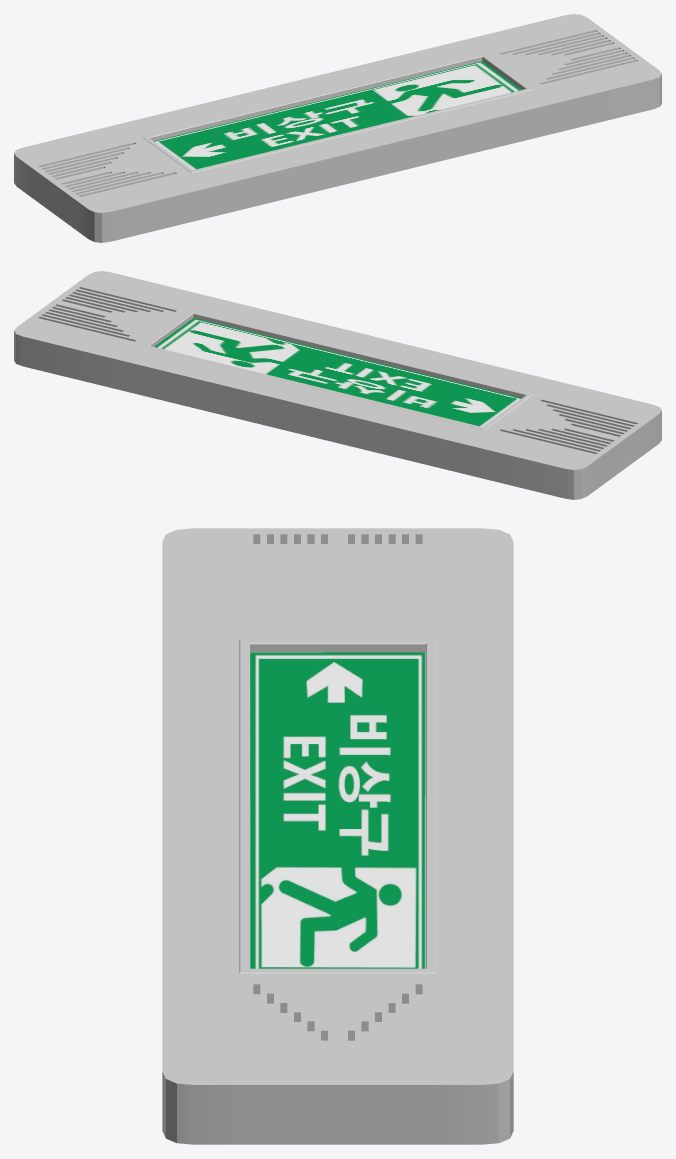
Rendered from EmergencyExit.FBX.
3 renders of one model, top to bottom at view 1: azimuth 30°, elevation 25°; view 2: azimuth 150°, elevation 25°; view 3: azimuth 270°, elevation 25°, orthographic. The views are drawn at different scales.
Parts seen in each view (by area): view 1: Box001, Box002; view 2: Box001, Box002; view 3: Box001, Box002.
Boxes of the visible parts, <box> form: Box001: <box>14,14,661,242</box>; Box002: <box>154,61,521,169</box>; Box001: <box>14,271,661,499</box>; Box002: <box>154,318,521,426</box>; Box001: <box>162,528,513,1144</box>; Box002: <box>250,652,425,968</box>.
Bounding box in the file's own units: 600 × 30.48 × 160.
1 material, 1 textured.
